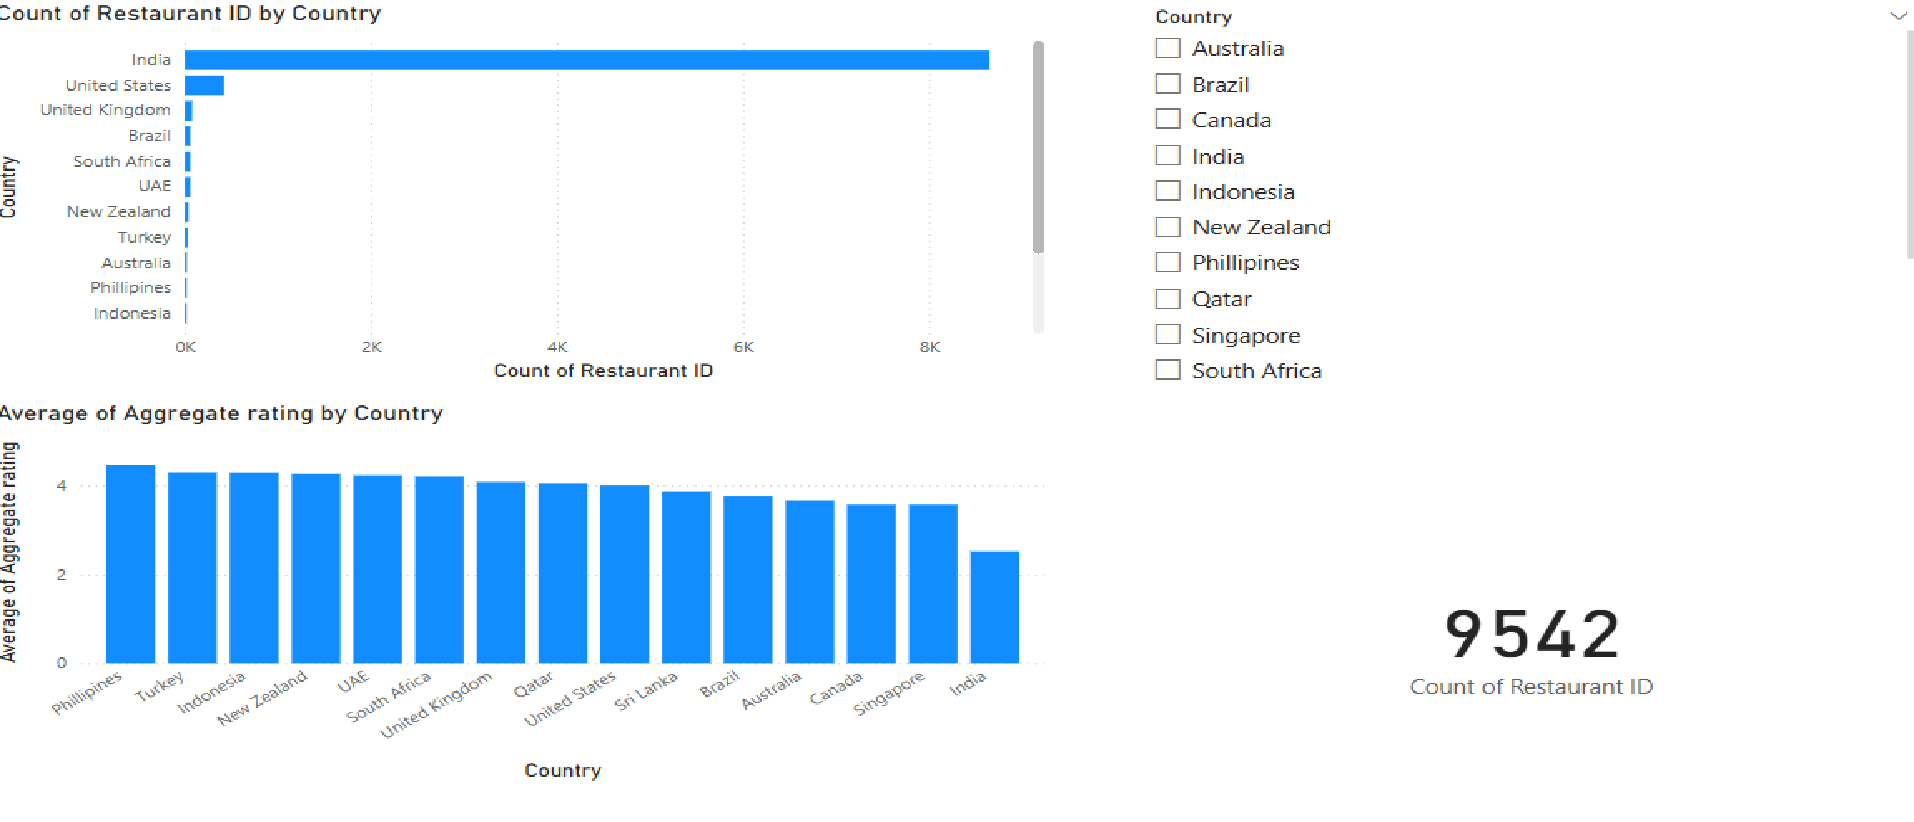

The page's visual inventory and layout, read from the dashboard file:
{"tool":"powerbi","page":{"name":"Page 1","canvas":[1280,720],"ordinal":0},"visuals":[{"type":"barChart","fields":{"Category":["Sheet1.Country"],"Y":["CountNonNull(Sheet1.Restaurant ID)"]},"box":[0,46.7,702.6,312.9],"z":0},{"type":"clusteredColumnChart","fields":{"Category":["Sheet1.Country"],"Y":["Avg(Sheet1.Aggregate rating)"]},"box":[0,370.5,702.6,312.9],"z":1000},{"type":"slicer","fields":{"Values":["Sheet1.Country"]},"box":[757.5,46.7,522.8,312.9],"z":1001},{"type":"card","fields":{"Values":["CountNonNull(Sheet1.Restaurant ID)"]},"box":[757.5,407.5,522.8,312.9],"z":1002}]}

Visuals, with their boxes on the page's 1280x720 design canvas (x1, y1, x2, y2). These are canvas units, not pixel positions in the 1914x822 screenshot, which may show the page scaled, cropped or inside an application window:
barChart - Sheet1.Country x CountNonNull(Sheet1.Restaurant ID): region(0, 47, 703, 360)
clusteredColumnChart - Sheet1.Country x Avg(Sheet1.Aggregate rating): region(0, 370, 703, 683)
slicer - Sheet1.Country: region(758, 47, 1280, 360)
card - CountNonNull(Sheet1.Restaurant ID): region(758, 408, 1280, 720)
